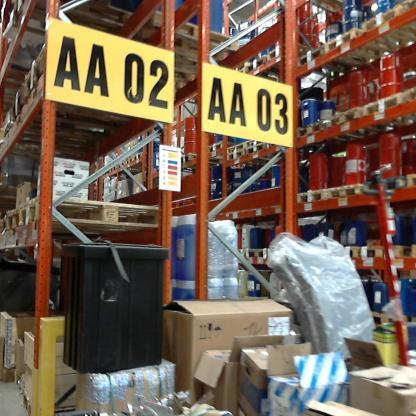pallets: (1, 194, 177, 239), (302, 0, 416, 67), (293, 92, 412, 141), (153, 9, 248, 62), (292, 177, 372, 207), (221, 129, 288, 164), (339, 241, 416, 262), (241, 244, 272, 262)
